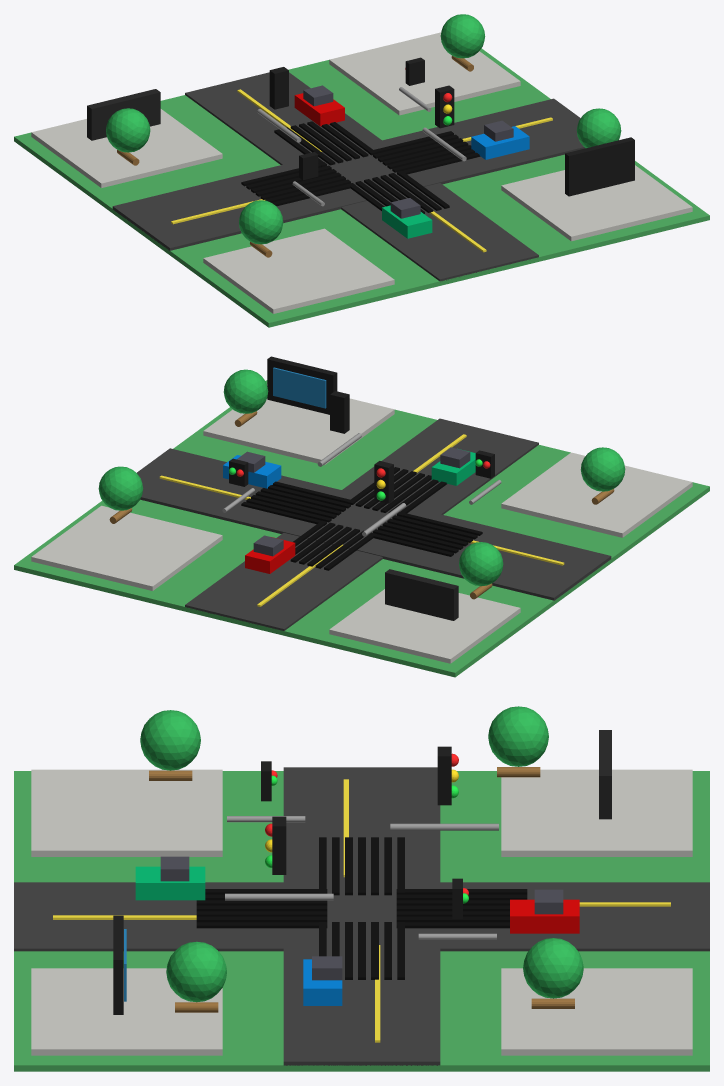
File: crucero_dos_semaforos_peatones_AR.glb
3 views of the same model, one above another, from view 1: azimuth 30°, elevation 25°; view 2: azimuth 150°, elevation 25°; view 3: azimuth 270°, elevation 25° (orthographic). The views are drawn at different scales.
Visible parts, largest first — view 1: Base_pasto, Via_Este_Oeste, Via_Norte_Sur, Banqueta_-2.7_2.7, Banqueta_2.7_-2.7, Banqueta_2.7_2.7, Banqueta_-2.7_-2.7, HMI_Weintek_EMT8050iE, PLC_Vigor_VH20AR, Arbol_0_copa, Arbol_1_copa, Arbol_2_copa (+8 smaller); view 2: Base_pasto, Via_Este_Oeste, Via_Norte_Sur, Banqueta_2.7_-2.7, Banqueta_-2.7_2.7, Banqueta_-2.7_-2.7, Banqueta_2.7_2.7, PLC_Vigor_VH20AR, Pantalla_HMI_Azul, Arbol_1_copa, Arbol_2_copa, Arbol_0_copa (+7 smaller); view 3: Base_pasto, Via_Este_Oeste, Via_Norte_Sur, Banqueta_-2.7_2.7, Banqueta_-2.7_-2.7, Banqueta_2.7_-2.7, Banqueta_2.7_2.7, Arbol_1_copa, Arbol_2_copa, Arbol_3_copa, Arbol_0_copa, Auto_verde_NS_cuerpo (+25 smaller).
Boxes of the visible parts, bbox=[...] form: Base_pasto: bbox=[14, 48, 709, 327]; Via_Este_Oeste: bbox=[112, 98, 585, 250]; Via_Norte_Sur: bbox=[185, 72, 538, 281]; Banqueta_-2.7_2.7: bbox=[203, 228, 394, 313]; Banqueta_2.7_-2.7: bbox=[329, 32, 520, 115]; Banqueta_2.7_2.7: bbox=[501, 165, 692, 241]; Banqueta_-2.7_-2.7: bbox=[31, 109, 222, 187]; HMI_Weintek_EMT8050iE: bbox=[565, 137, 634, 196]; PLC_Vigor_VH20AR: bbox=[87, 89, 160, 140]; Arbol_0_copa: bbox=[106, 108, 150, 152]; Arbol_1_copa: bbox=[239, 200, 283, 244]; Arbol_2_copa: bbox=[440, 14, 485, 58]; Base_pasto: bbox=[14, 380, 709, 677]; Via_Este_Oeste: bbox=[137, 448, 611, 600]; Via_Norte_Sur: bbox=[185, 418, 538, 630]; Banqueta_2.7_-2.7: bbox=[31, 505, 222, 590]; Banqueta_-2.7_2.7: bbox=[501, 452, 692, 537]; Banqueta_-2.7_-2.7: bbox=[329, 589, 520, 663]; Banqueta_2.7_2.7: bbox=[203, 384, 394, 465]; PLC_Vigor_VH20AR: bbox=[385, 569, 458, 620]; Pantalla_HMI_Azul: bbox=[273, 367, 326, 408]; Arbol_1_copa: bbox=[580, 447, 625, 491]; Arbol_2_copa: bbox=[98, 466, 143, 510]; Arbol_0_copa: bbox=[459, 542, 503, 586]; Base_pasto: bbox=[14, 771, 709, 1071]; Via_Este_Oeste: bbox=[283, 767, 440, 1065]; Via_Norte_Sur: bbox=[14, 882, 709, 951]; Banqueta_-2.7_2.7: bbox=[31, 769, 222, 856]; Banqueta_-2.7_-2.7: bbox=[501, 769, 692, 856]; Banqueta_2.7_-2.7: bbox=[501, 968, 692, 1055]; Banqueta_2.7_2.7: bbox=[31, 968, 222, 1055]; Arbol_1_copa: bbox=[140, 710, 200, 770]; Arbol_2_copa: bbox=[523, 938, 583, 998]; Arbol_3_copa: bbox=[166, 941, 226, 1002]; Arbol_0_copa: bbox=[488, 706, 548, 766]; Auto_verde_NS_cuerpo: bbox=[135, 866, 205, 900].
Size of the model in its own units: 8 by 1.78 by 8.
